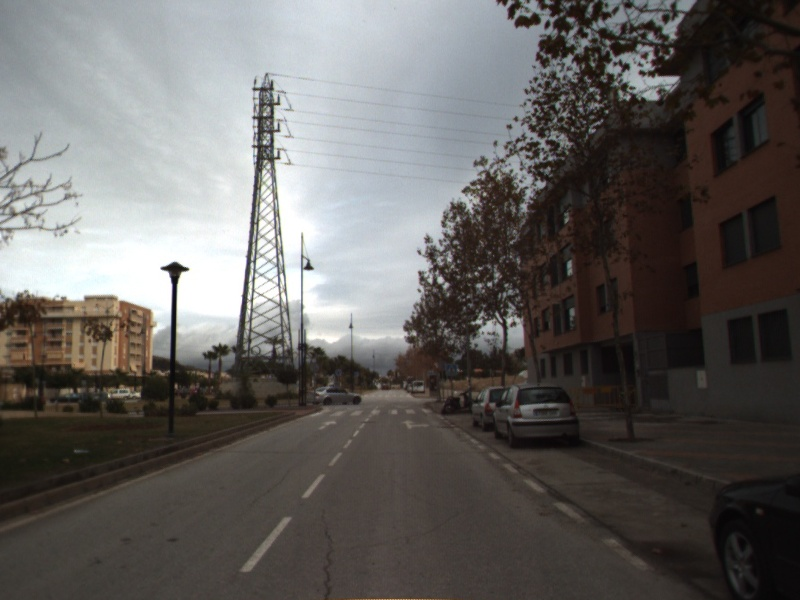STRAIGHT: (316, 418, 339, 432)
STRAIGHT_RIGHT: (399, 418, 432, 431)
